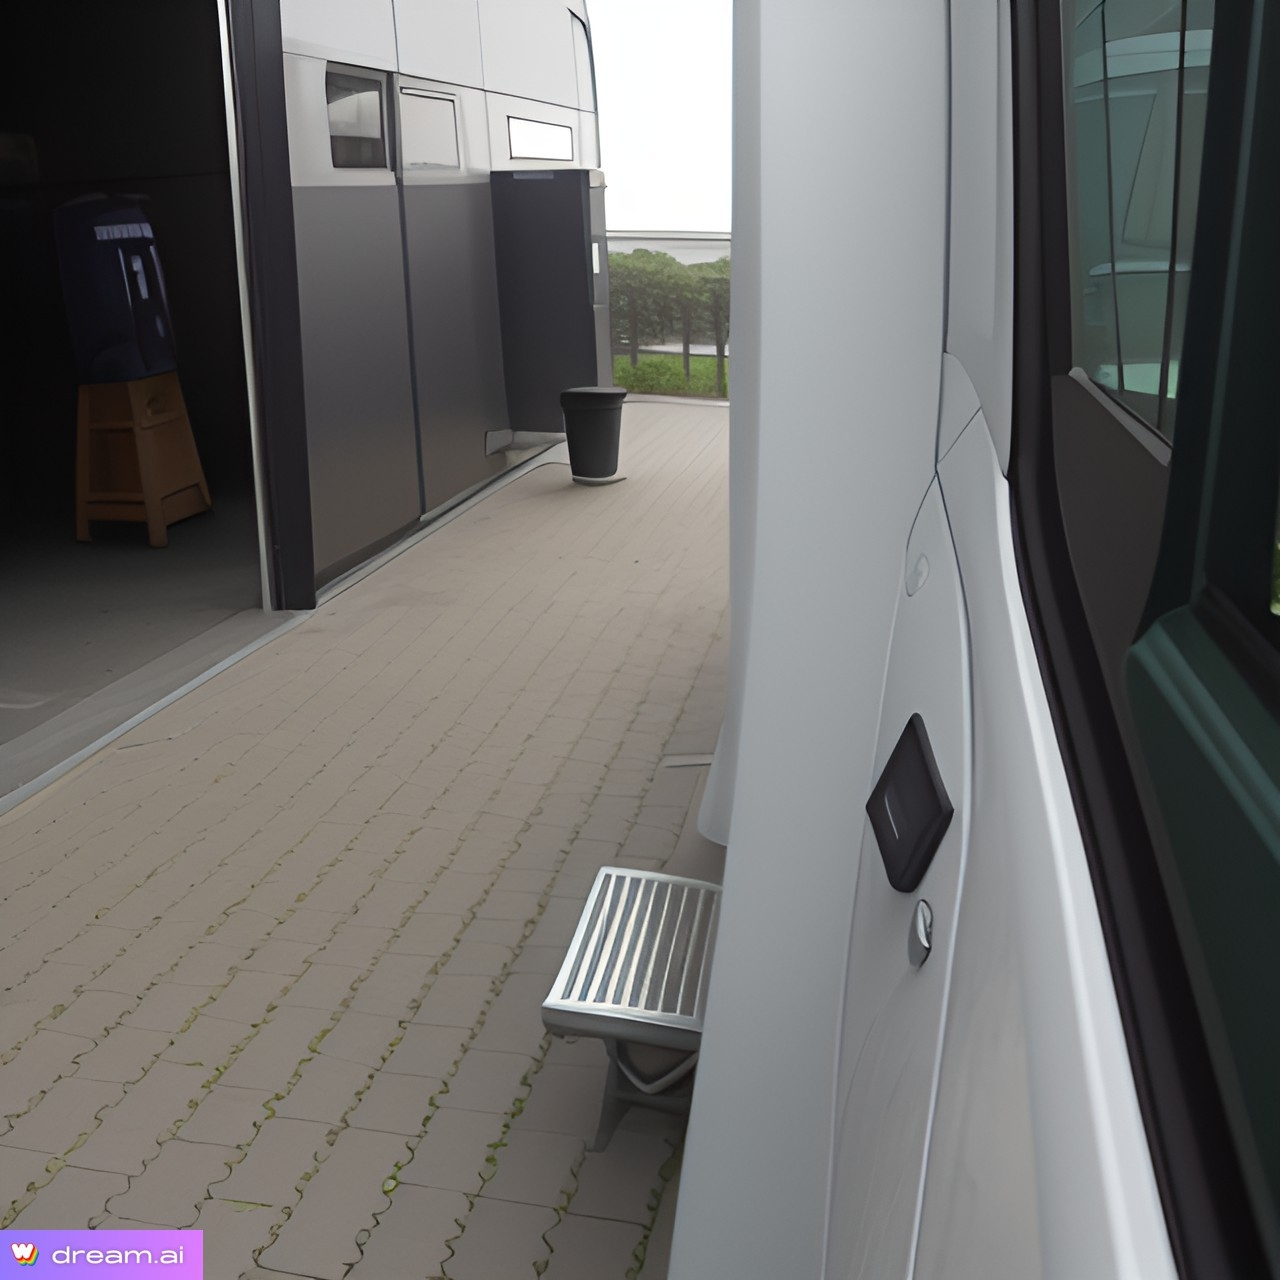step_front: (515, 821, 765, 1157)
